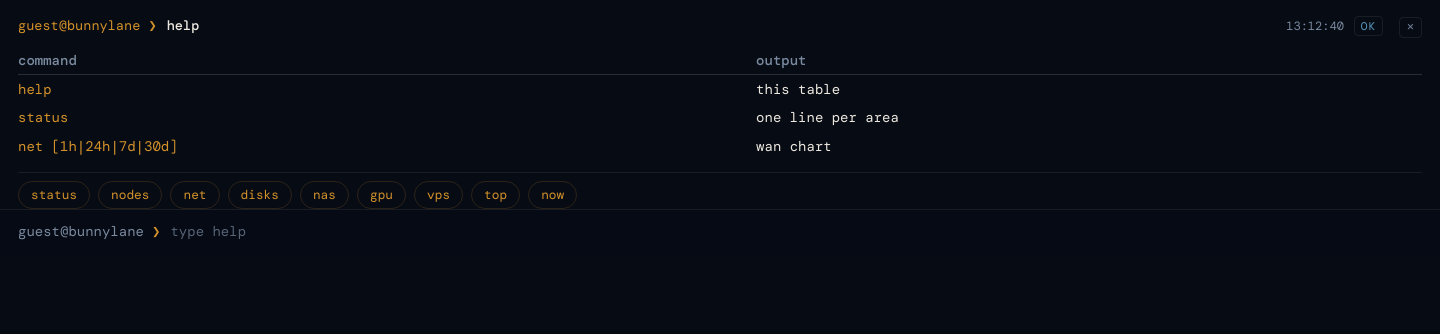
Test: typing status and Enter renders a block with the header and the tags
Check: the text "this table" is shown, box [756,74,1422,103]
In the field named "command": (795, 232) [168,220,1422,243], type "status"
Then press Enter
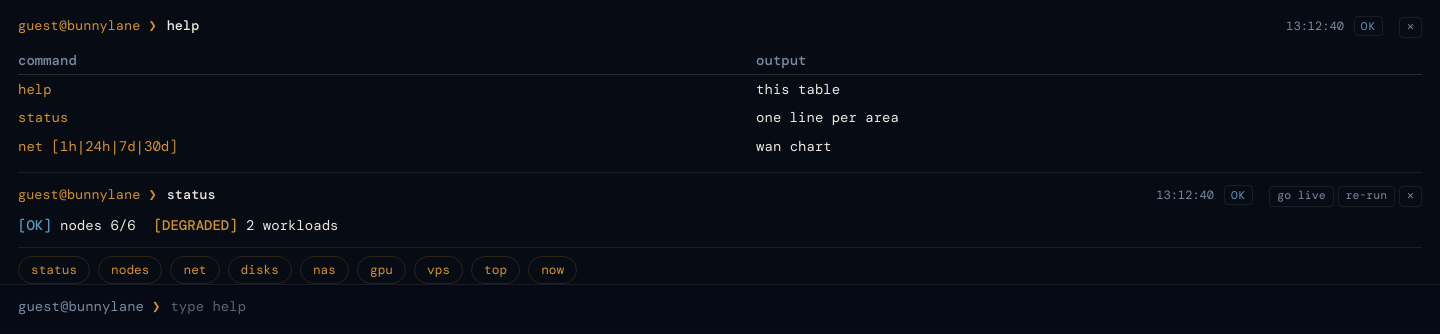
Check: the field named "command" is empty, box [168,295,1422,318]
Check: the element "status" shows "nodes 6/6", box [60,216,136,234]
Check: the element "status" shows "2 workloads", box [246,216,338,234]
